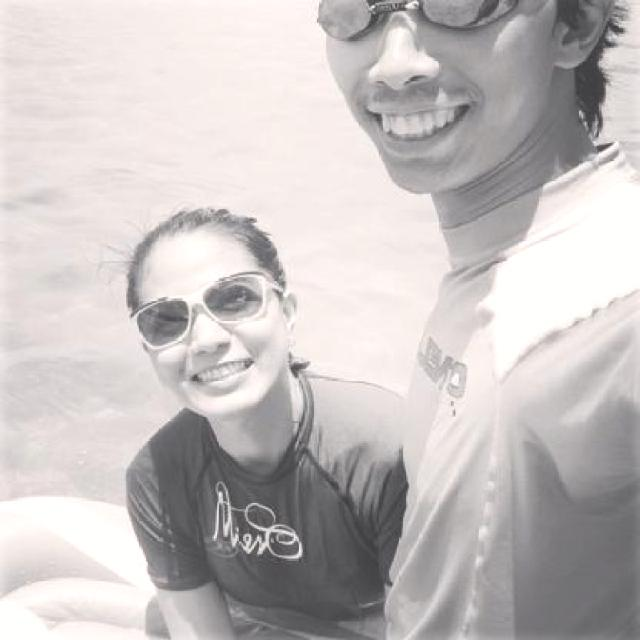face_nomask: (338, 6, 499, 166)
glasses: (124, 272, 284, 352)
head_nohelmet: (107, 191, 290, 315)
person: (318, 0, 640, 640), (99, 186, 439, 640)
